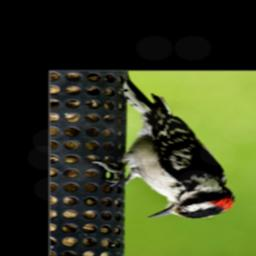Woodpecker: (96, 79, 234, 221)
